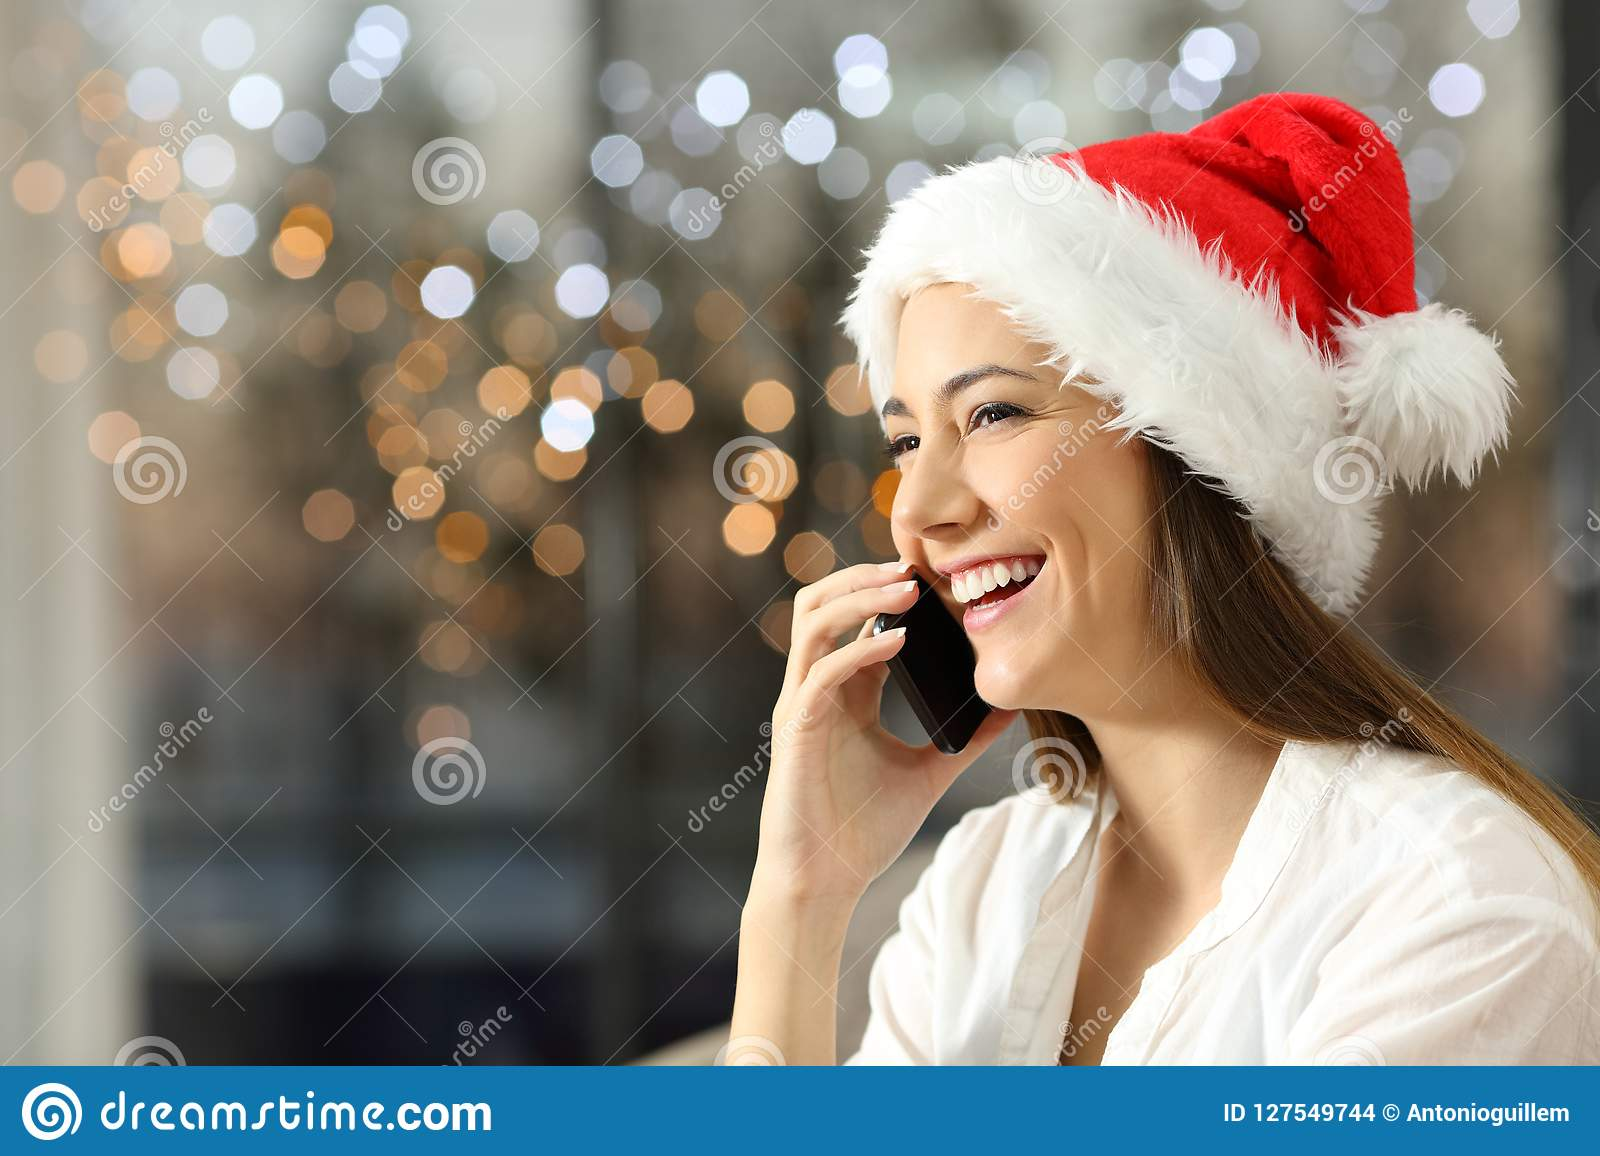phone: (877, 566, 990, 752)
talk: (749, 355, 1055, 918)
